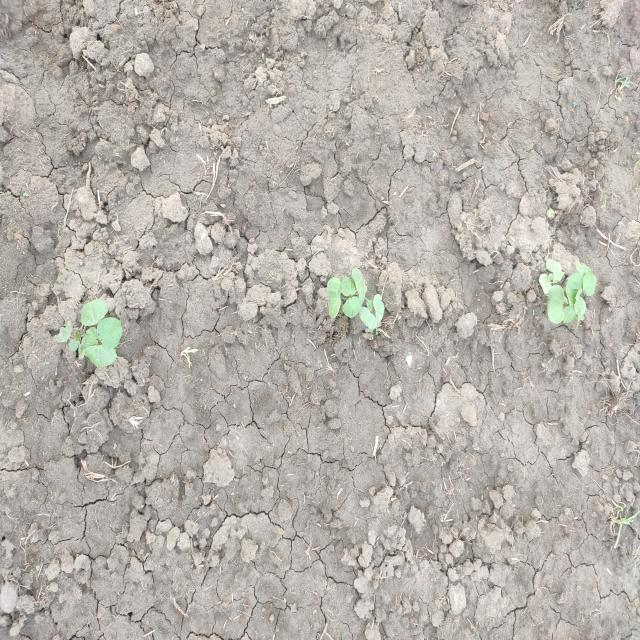seedling: (96, 317, 123, 348), (83, 345, 117, 367), (81, 299, 108, 325), (547, 285, 564, 324), (327, 277, 341, 318), (352, 267, 367, 304), (342, 296, 362, 318), (359, 306, 377, 329), (566, 273, 583, 297), (56, 321, 72, 343), (582, 271, 596, 296), (373, 294, 385, 323), (340, 276, 357, 296), (84, 327, 99, 348), (539, 274, 552, 296), (563, 305, 577, 323), (566, 281, 576, 306), (575, 261, 591, 276), (574, 296, 586, 315), (546, 259, 561, 273), (552, 271, 565, 283)
